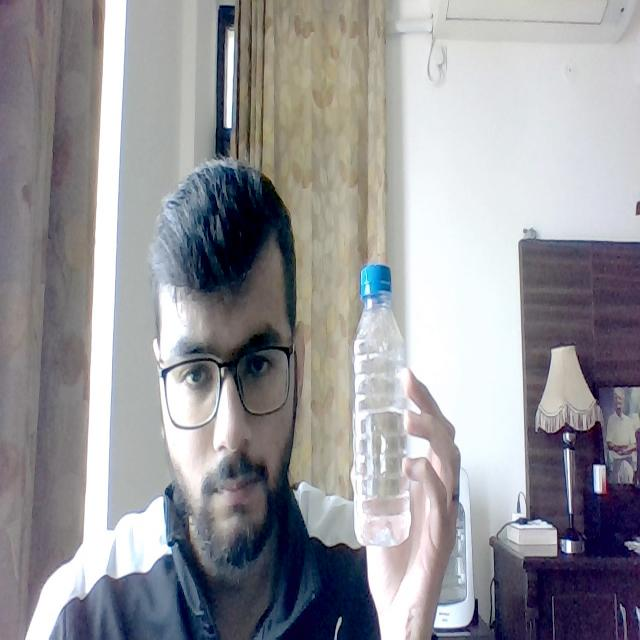half-bottle: (350, 262, 412, 554)
